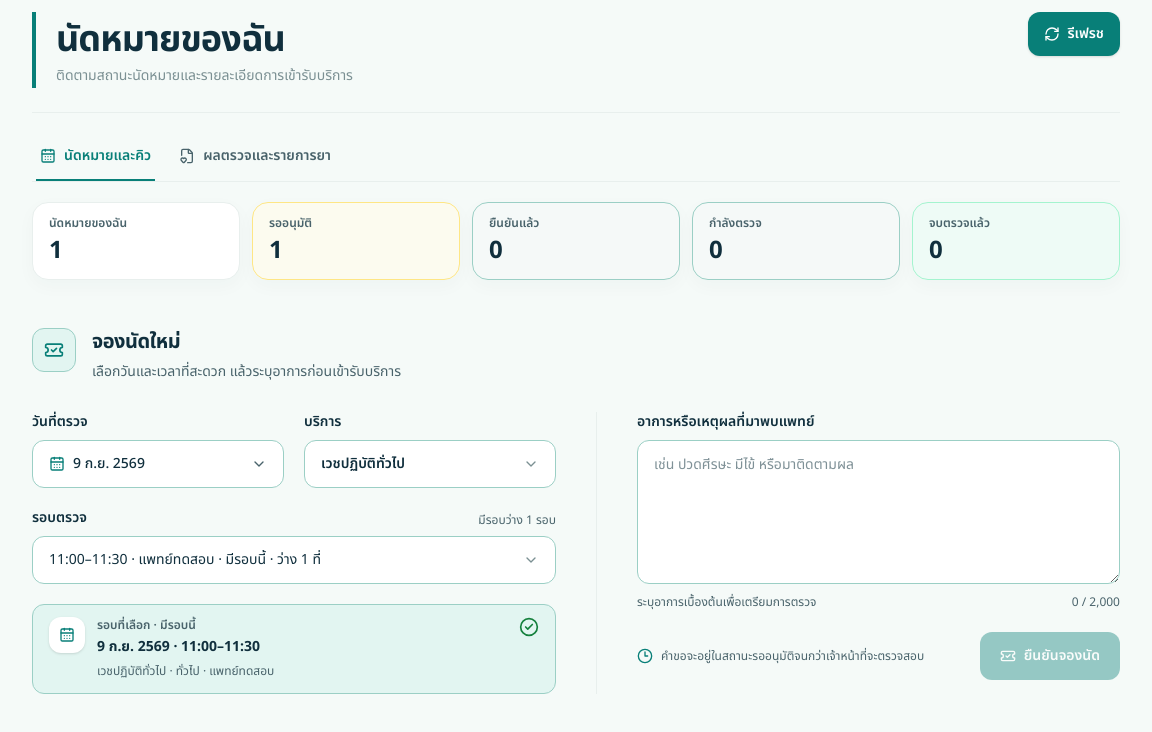
Test: Clinic database-backed role containers with injected offline repository › hides full slots and slots already booked by the patient while keeping another patient slot with capacity visible
The width and height of the screenshot is (1152, 732).
Click the button with aria-label "รอบตรวจ". click: (294, 560)
box: [32,536,556,584]
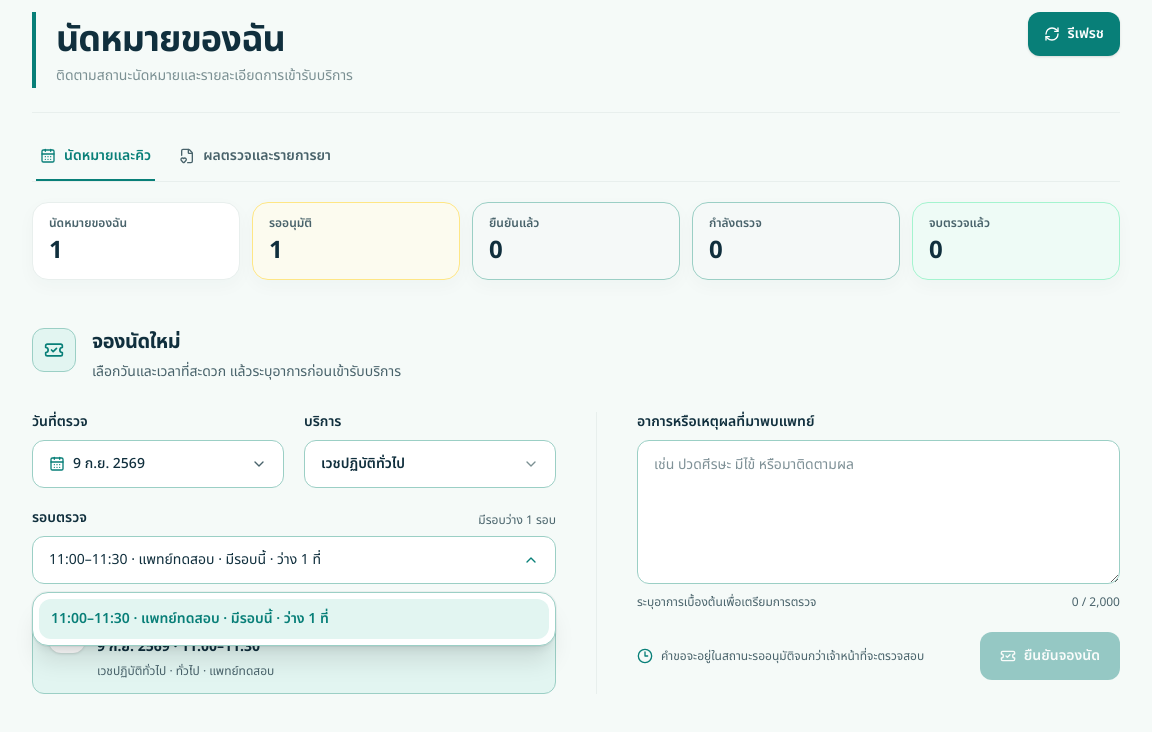
Check: the option "11:00–11:30 · แพทย์ทดสอบ · มีรอบนี้ · ว่าง 1 ที่" is shown, box [39,599,549,639]
